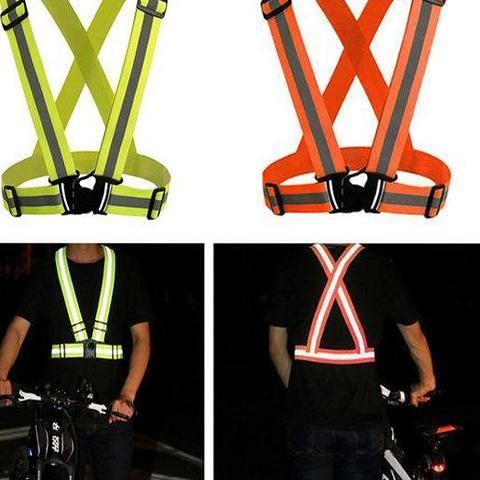Vest: (29, 245, 135, 364)
